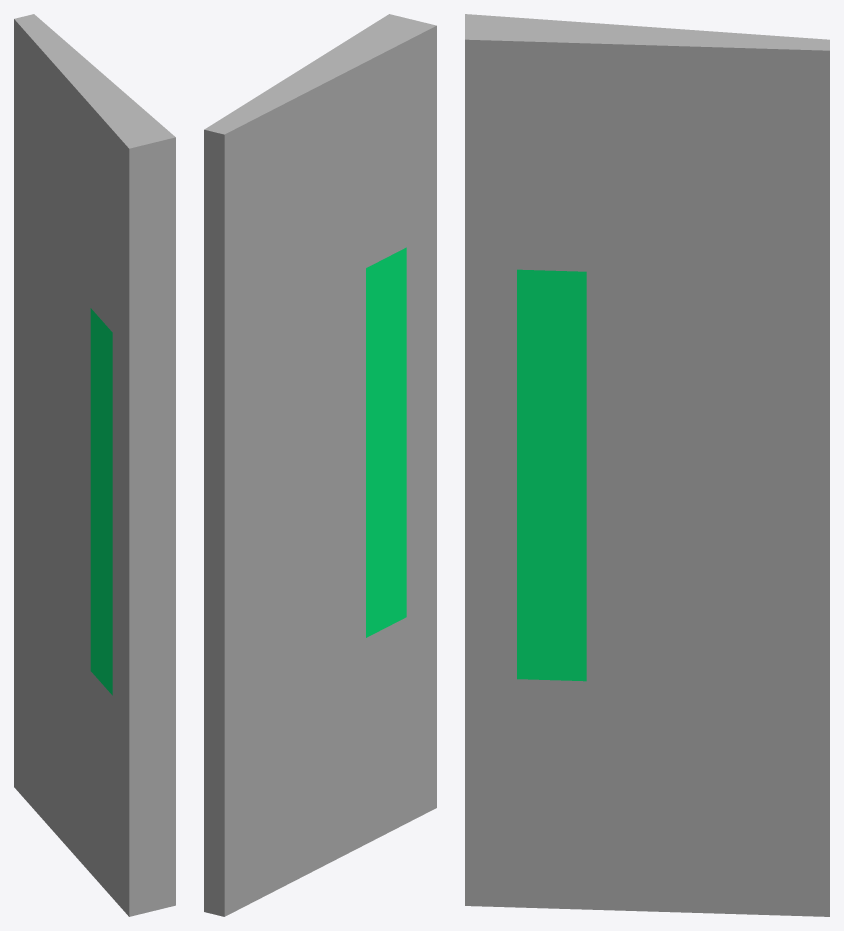
The model's file is WASHING-MACHINE-BODYSET3_link_mesh.dae.
3 views of the same model, side by side, from view 1: azimuth 30°, elevation 25°; view 2: azimuth 150°, elevation 25°; view 3: azimuth 270°, elevation 25° (orthographic). The views are drawn at different scales.
Visible parts, largest first — view 1: WASHING-MACHINE-BODYSET3_link (×2); view 2: WASHING-MACHINE-BODYSET3_link (×2); view 3: WASHING-MACHINE-BODYSET3_link (×2).
Boxes of the visible parts, box(x1,y1,x2,y2) form: WASHING-MACHINE-BODYSET3_link (×2): box(14, 14, 175, 916); WASHING-MACHINE-BODYSET3_link (×2): box(204, 14, 436, 916); WASHING-MACHINE-BODYSET3_link (×2): box(465, 14, 829, 916).
Bounding box in the file's own units: 0.05 × 0.55 × 0.21.
